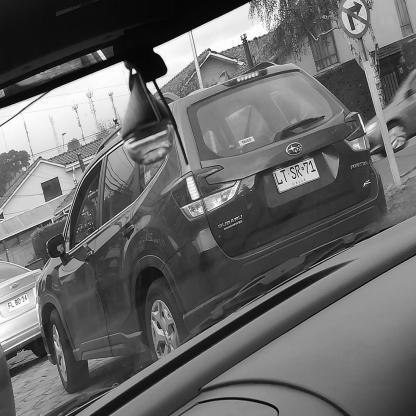Patente: (269, 153, 322, 197)
